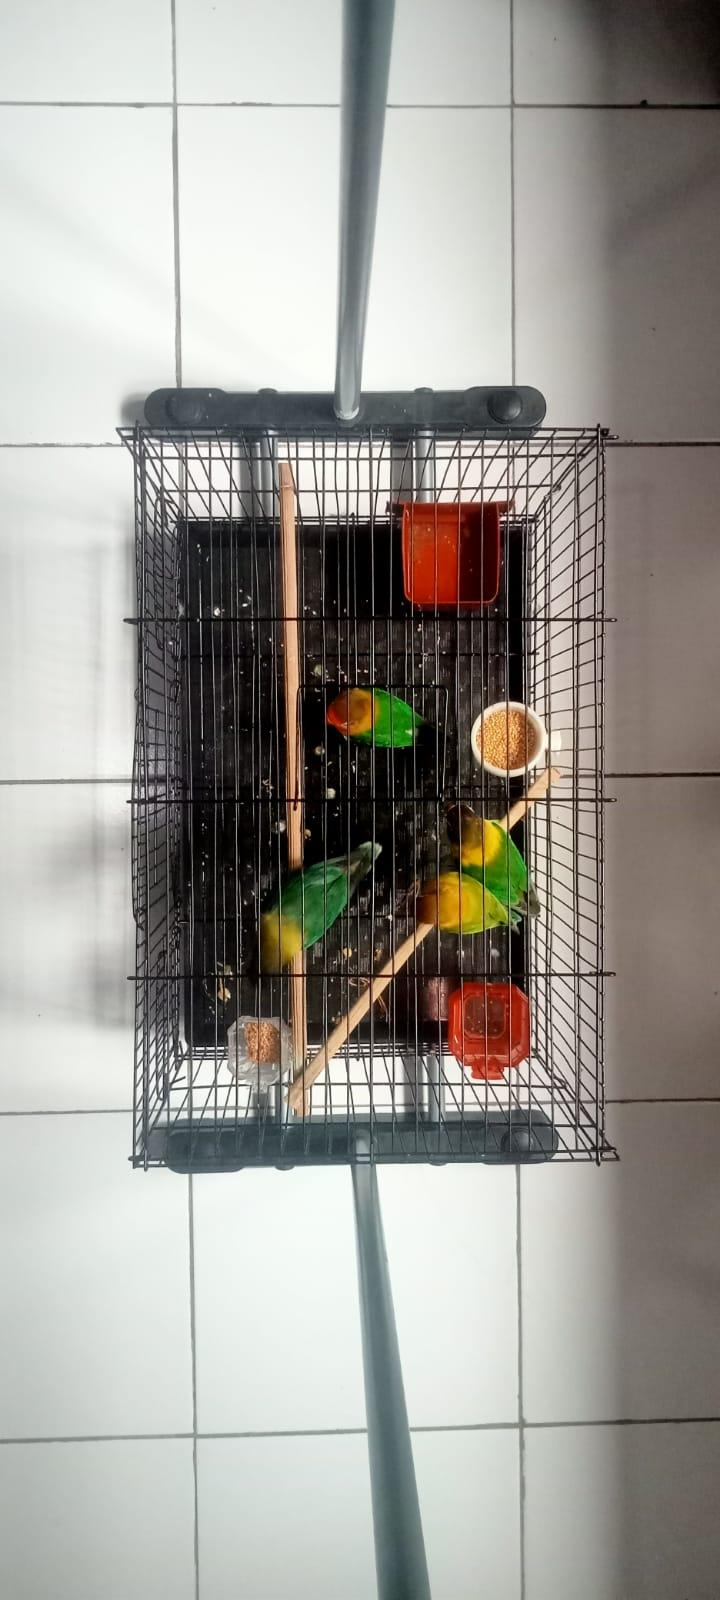LoveBird: (248, 841, 382, 987), (447, 803, 541, 918), (326, 687, 452, 748), (414, 873, 521, 934)
